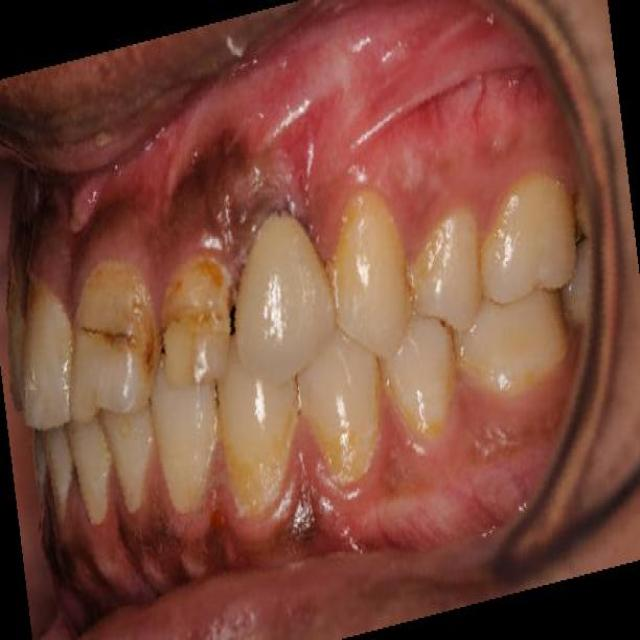calculus: (65, 231, 152, 392), (215, 397, 289, 529), (296, 386, 378, 493), (159, 252, 237, 359), (382, 362, 455, 454)
